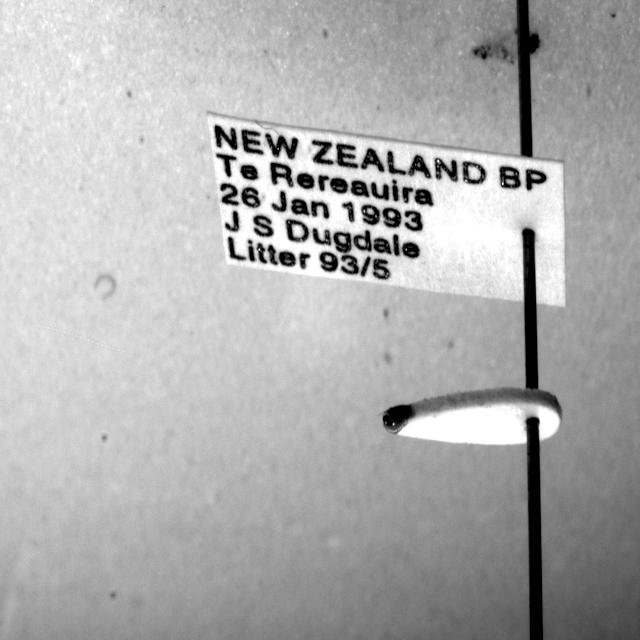typed_label: (208, 112, 565, 306)
